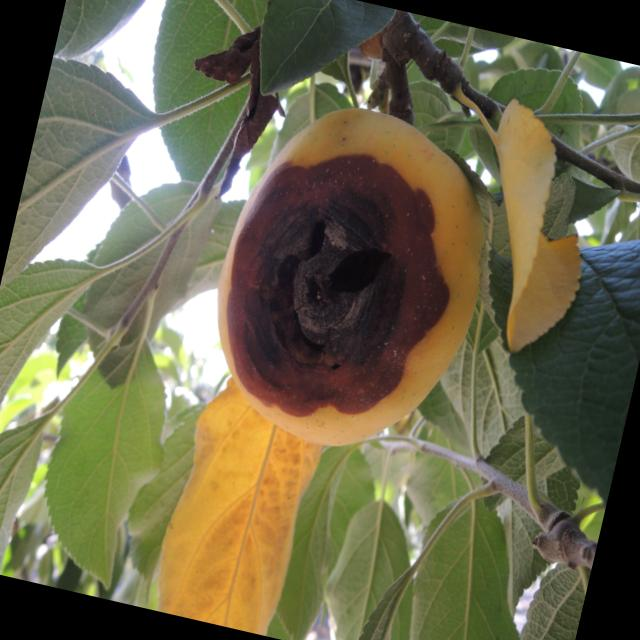rotten: (181, 78, 525, 476)
